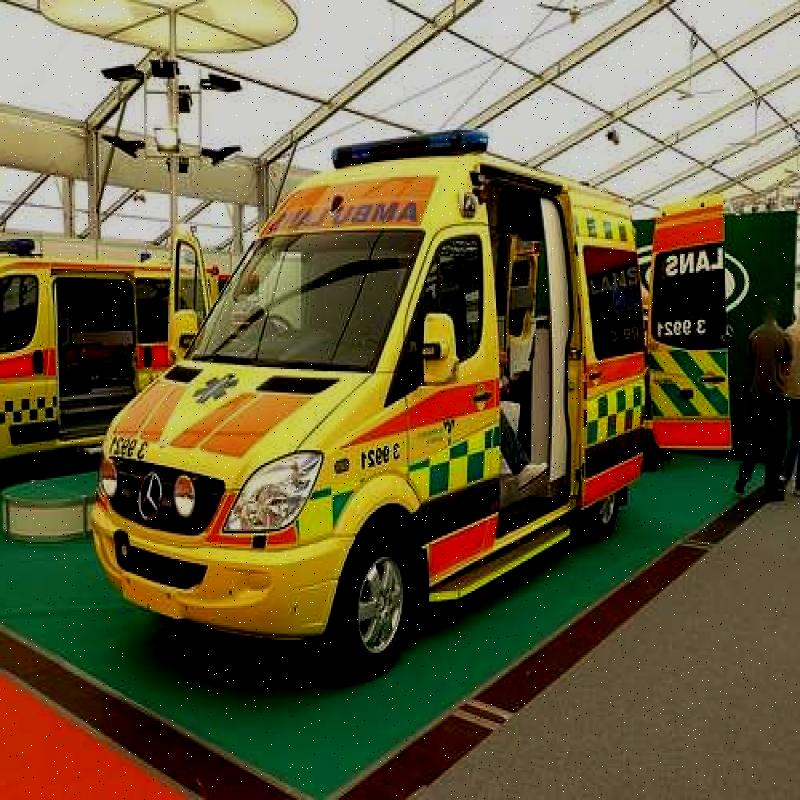AmbulanceSiren: (313, 116, 491, 191)
